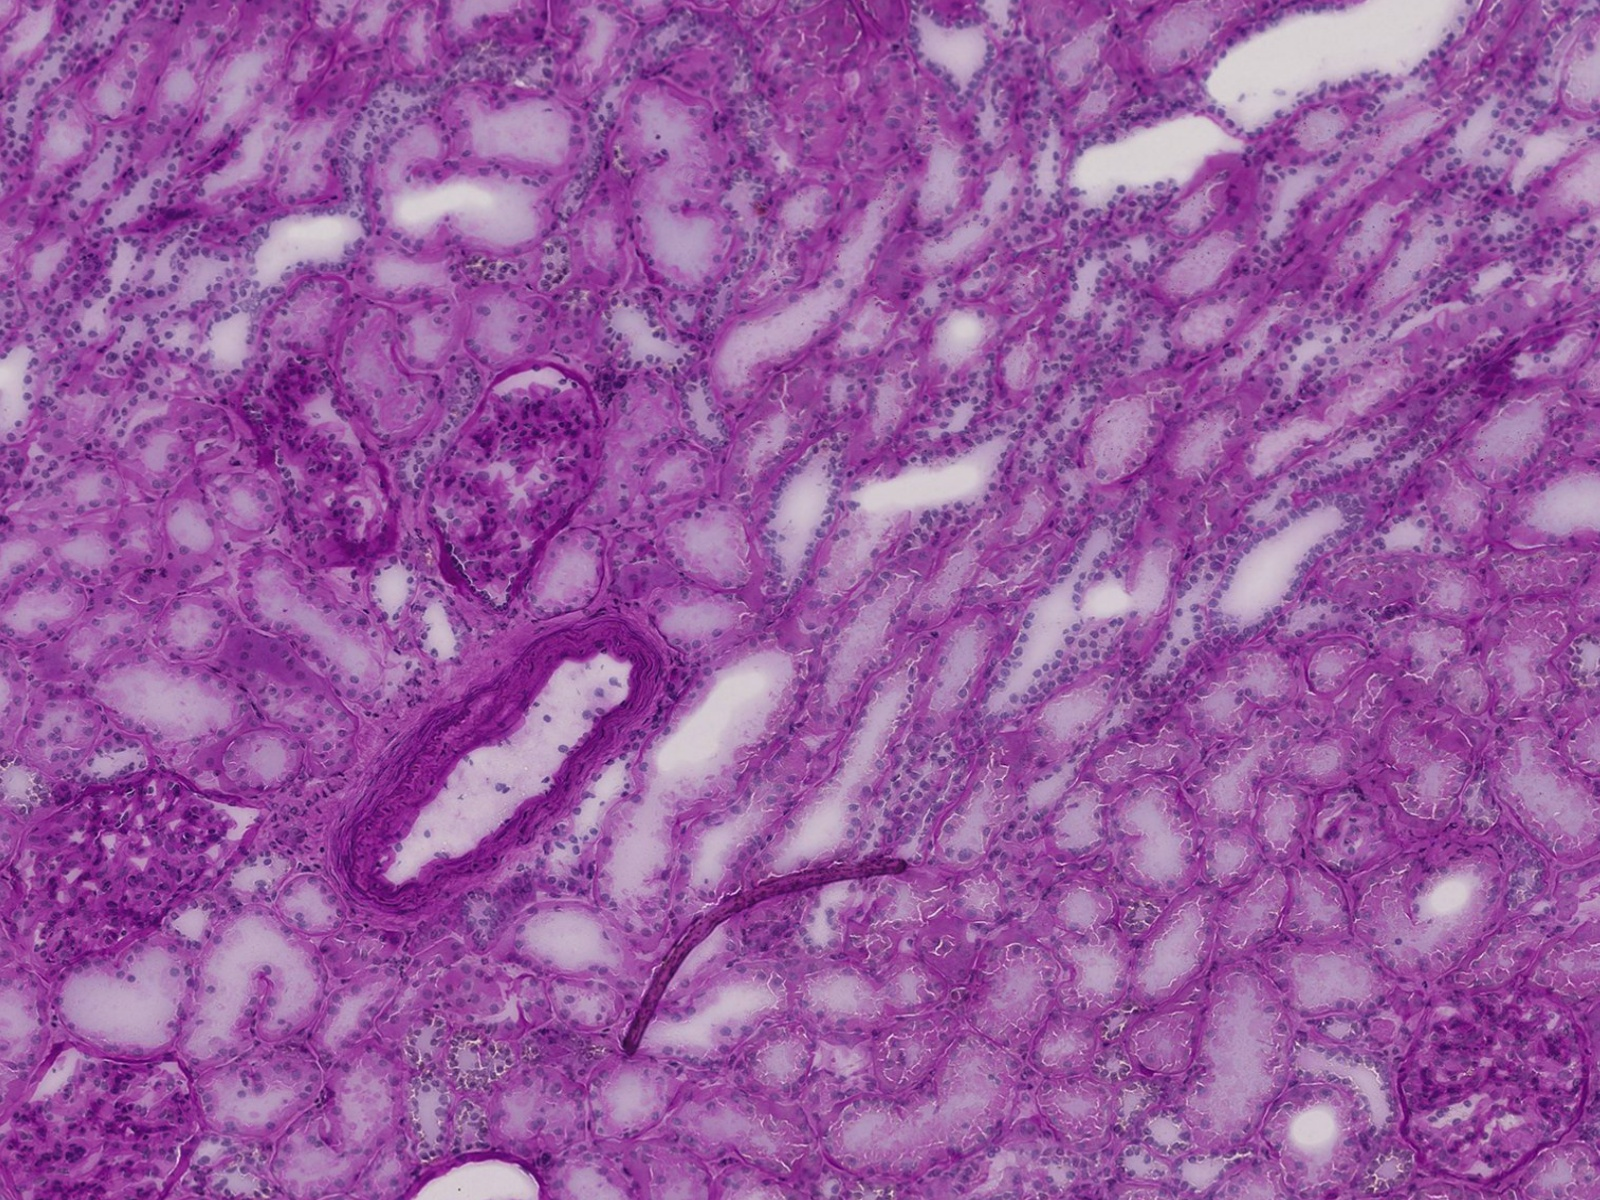Glomeruli: (1, 766, 271, 974), (414, 364, 610, 616), (1386, 982, 1589, 1194), (6, 1041, 207, 1200)
